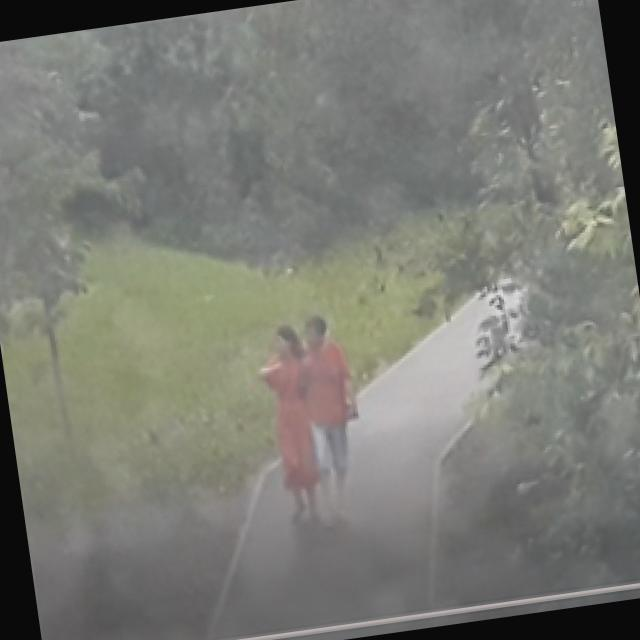person: (282, 308, 376, 526), (248, 322, 333, 530)
